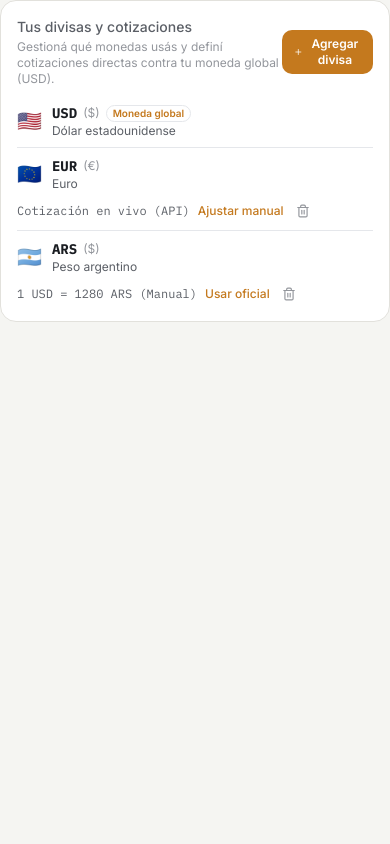
Test: CurrencyManagerCard › permite abrir el modal de catálogo para agregar otra divisa
Click the button "Agregar divisa" at (328, 52), box top-left (282, 30), bottom-right (373, 74)
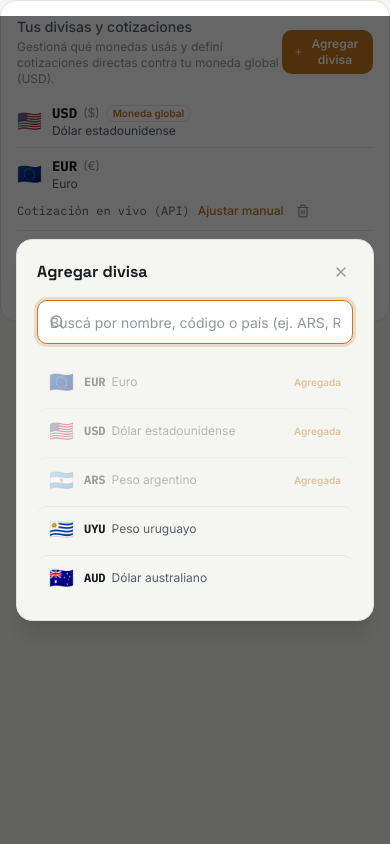
Expected: the field with placeholder "Buscá por nombre, código o país (ej. ARS, Real, Chile...)" is shown, top-left (37, 300), bottom-right (353, 344)
